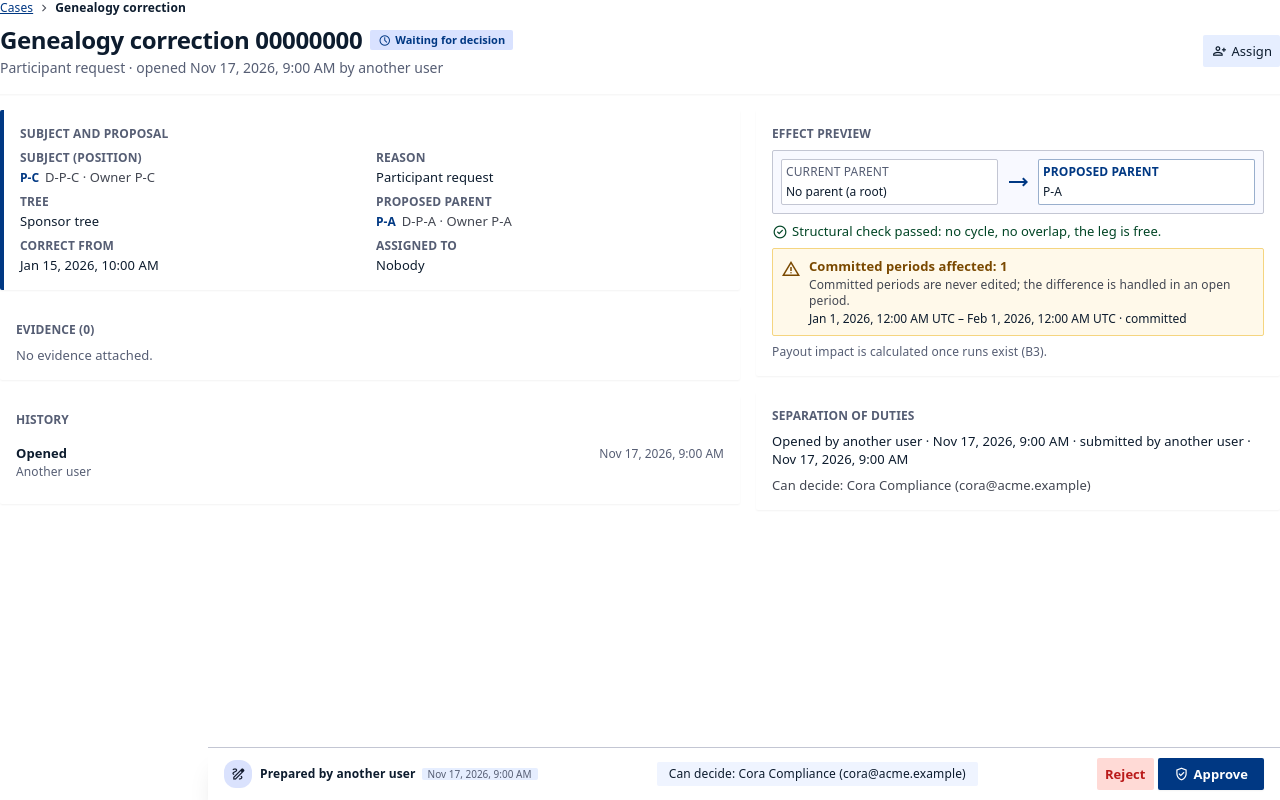
Scenario: CaseDetailPage (SC-06) › approves with a reason and names the eligible approvers when the server refuses on SoD
expect the element with test id "committed-periods" shows "Committed periods affected: 1": met, box [772,248,1264,336]
expect the text "Payout impact is calculated once runs exist (B3)." is shown: met, box [772,343,1047,360]
Step 1. Click the button "Approve" → (1211, 774), box [1158,758,1264,790]
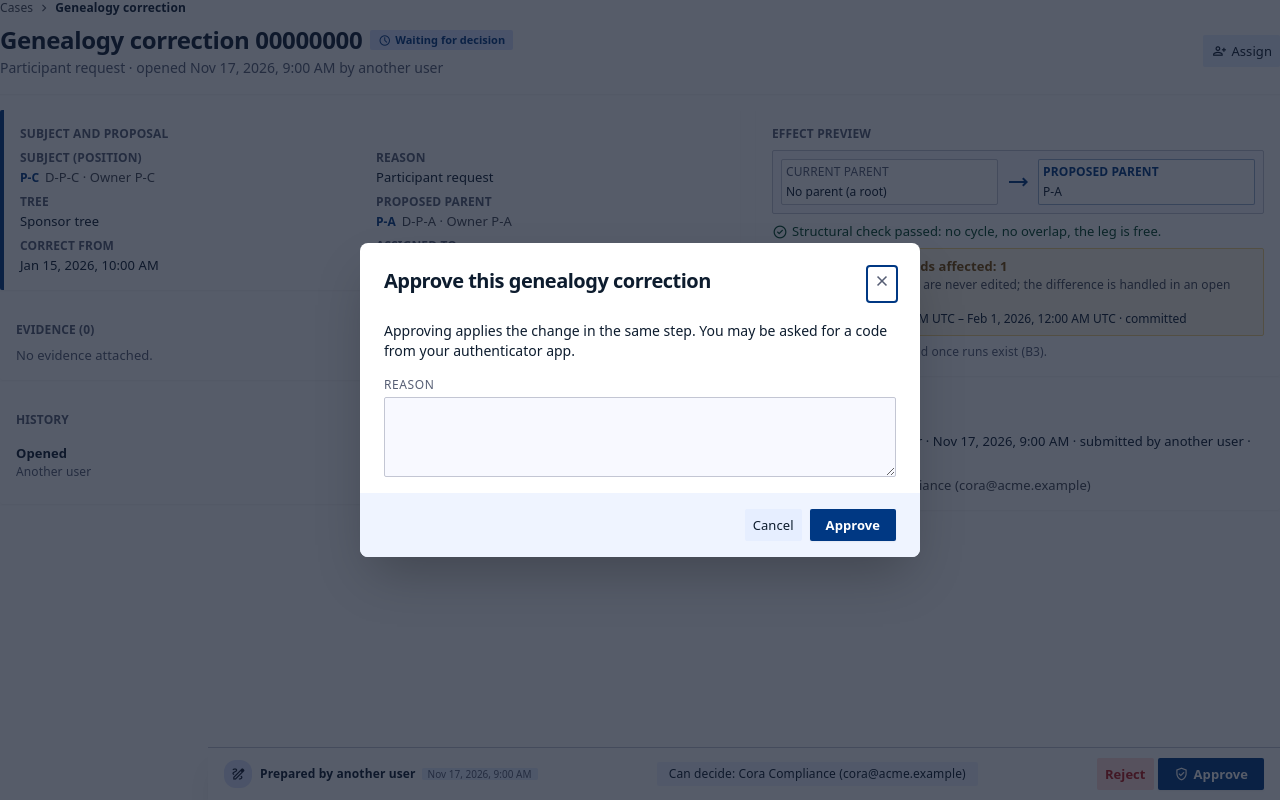
Step 2. Type "Evidence checked" into the text box labelled "Reason" → (640, 437), box [384,397,896,477]
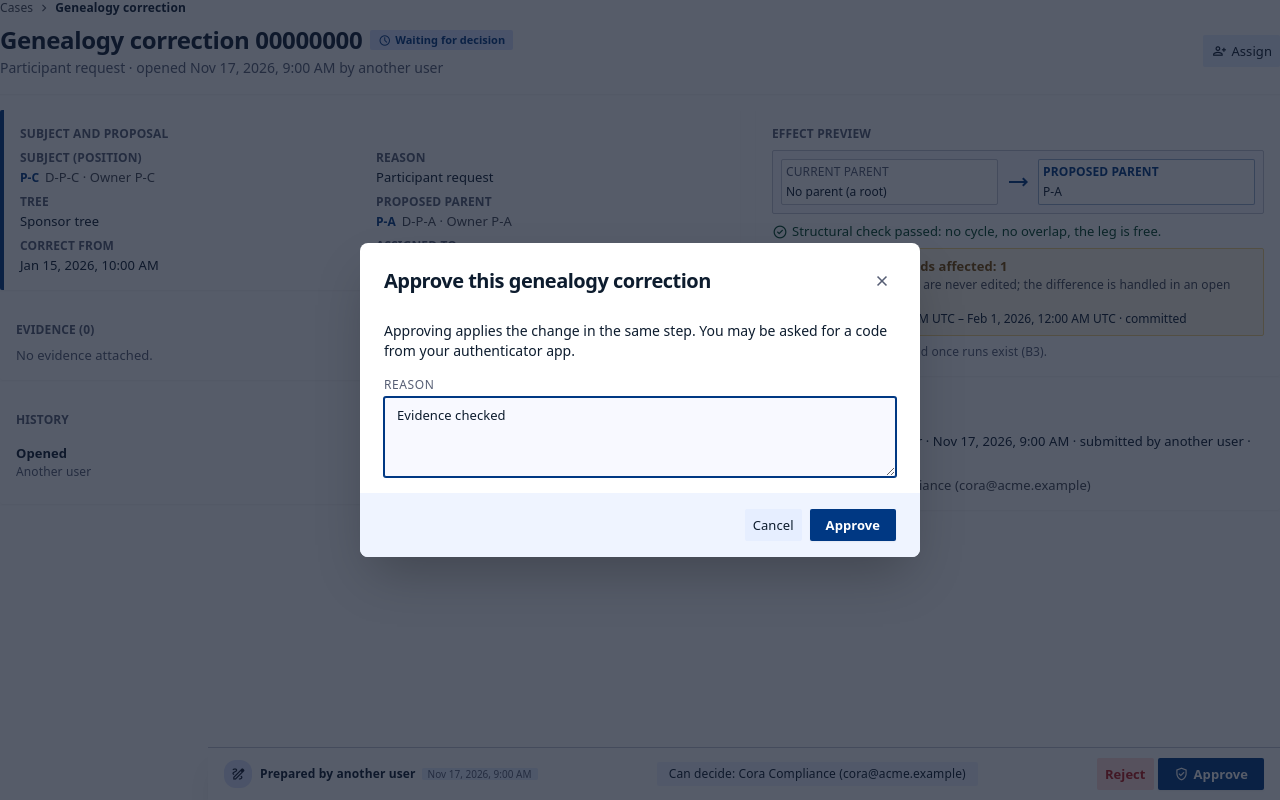
Step 3. Click the button "Approve" → (853, 525), box [810,509,896,541]
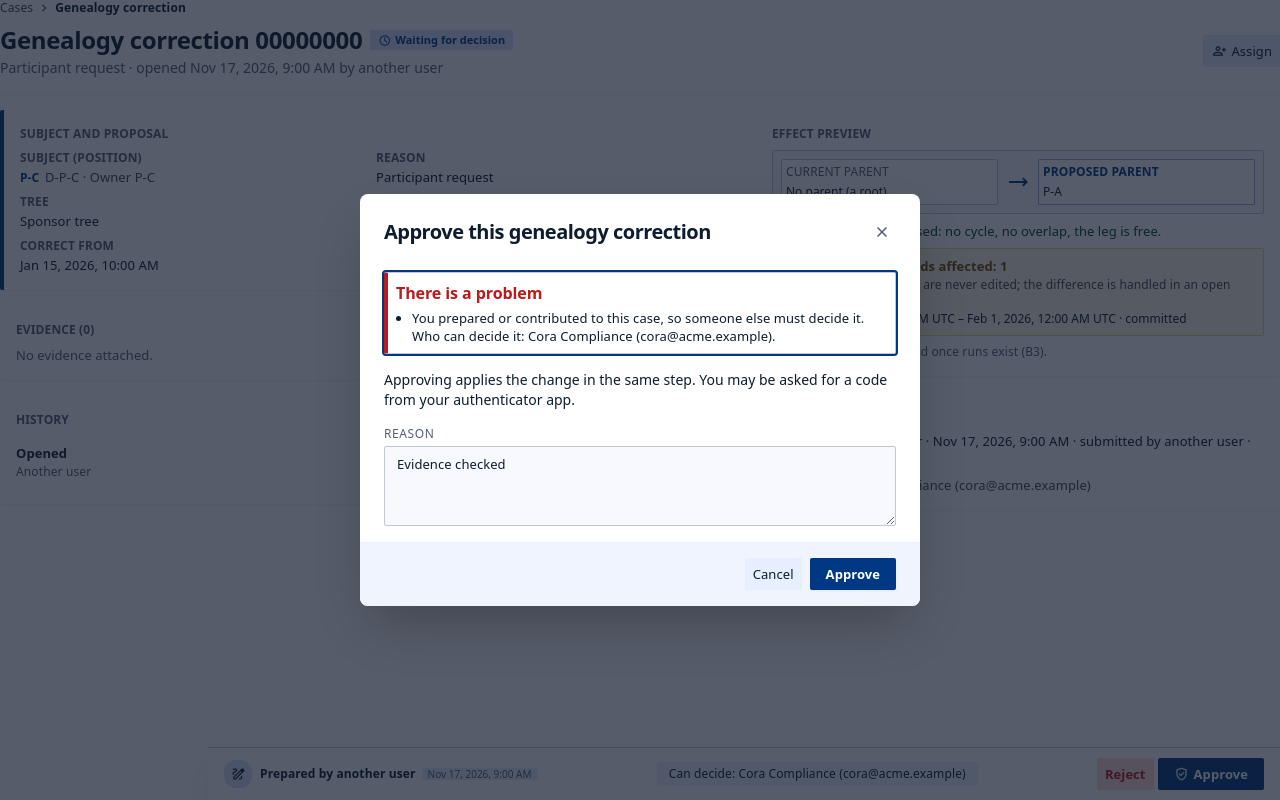
expect the list item "Who can decide it: Cora Compliance" is shown: met, box [412,309,864,345]
